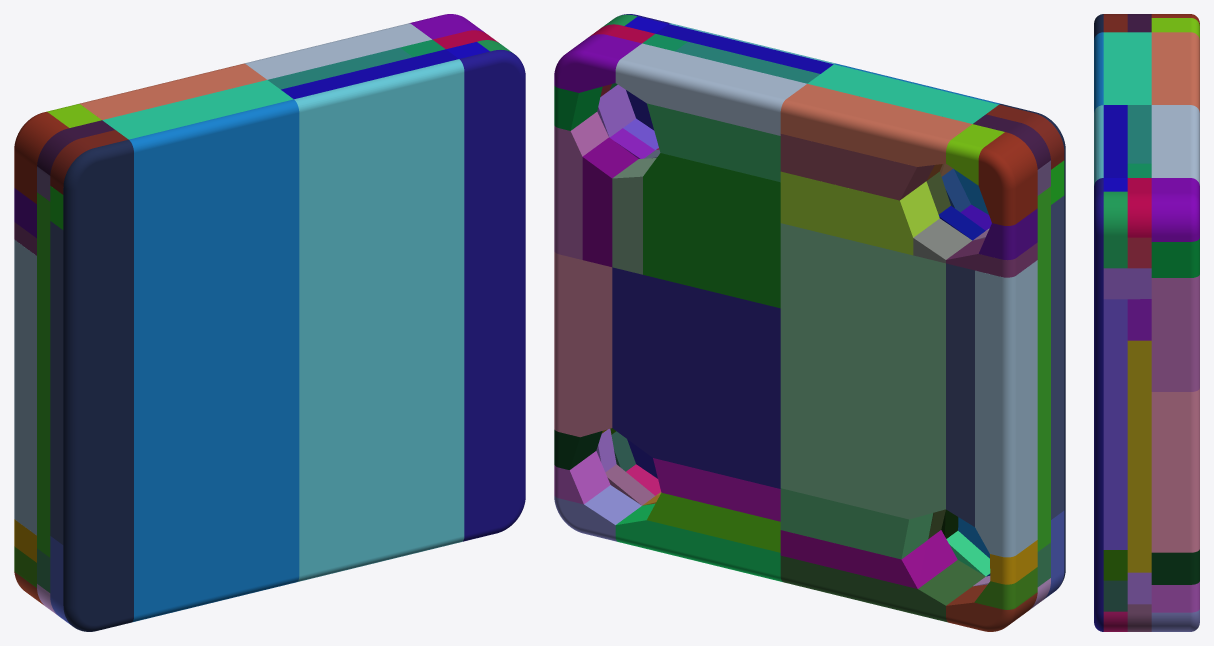
Rendered from 2_canonical.obj.
The picture shows the model from 3 angles, left to right: view 1: azimuth 30°, elevation 25°; view 2: azimuth 150°, elevation 25°; view 3: azimuth 270°, elevation 25°; orthographic projection. The views are drawn at different scales.
Parts seen in each view (by area): view 1: geometry_2, geometry_29, geometry_21, geometry_20, geometry_54, geometry_74, geometry_72, geometry_64, geometry_6, geometry_9, geometry_15, geometry_5 (+7 smaller); view 2: geometry_39, geometry_18, geometry_54, geometry_8, geometry_24, geometry_6, geometry_9, geometry_34, geometry_16, geometry_3, geometry_10, geometry_19 (+37 smaller); view 3: geometry_24, geometry_83, geometry_48, geometry_7, geometry_20, geometry_6, geometry_9, geometry_64, geometry_32, geometry_81, geometry_5, geometry_33 (+22 smaller).
Part boxes in pixels (box(x1,y1,x2,y2)): geometry_2: box(294, 59, 464, 581); geometry_29: box(129, 99, 299, 622); geometry_21: box(63, 139, 133, 631); geometry_20: box(459, 50, 525, 541); geometry_54: box(14, 239, 36, 535); geometry_74: box(37, 192, 50, 557); geometry_72: box(50, 221, 63, 544); geometry_64: box(102, 80, 293, 139); geometry_6: box(244, 23, 431, 79); geometry_9: box(79, 63, 266, 119); geometry_15: box(14, 112, 69, 203); geometry_5: box(281, 49, 458, 99); geometry_39: box(780, 223, 945, 519); geometry_18: box(612, 267, 780, 488); geometry_54: box(975, 260, 1037, 557); geometry_8: box(643, 153, 780, 308); geometry_24: box(554, 252, 612, 437); geometry_6: box(615, 43, 806, 135); geometry_9: box(780, 84, 971, 166); geometry_34: box(780, 171, 939, 255); geometry_16: box(946, 263, 974, 526); geometry_3: box(780, 488, 933, 559); geometry_10: box(647, 103, 780, 181); geometry_19: box(780, 555, 985, 622); geometry_24: box(1151, 388, 1199, 552); geometry_83: box(1103, 299, 1127, 549); geometry_48: box(1127, 340, 1151, 572); geometry_7: box(1151, 275, 1199, 391); geometry_20: box(1094, 178, 1103, 631); geometry_6: box(1151, 105, 1199, 185); geometry_9: box(1151, 32, 1199, 112); geometry_64: box(1103, 32, 1151, 104); geometry_32: box(1151, 178, 1199, 241); geometry_81: box(1103, 191, 1127, 268); geometry_5: box(1103, 105, 1127, 177); geometry_33: box(1151, 238, 1199, 277).
Size of the model in its own units: 0.075 by 0.075 by 0.0165.
